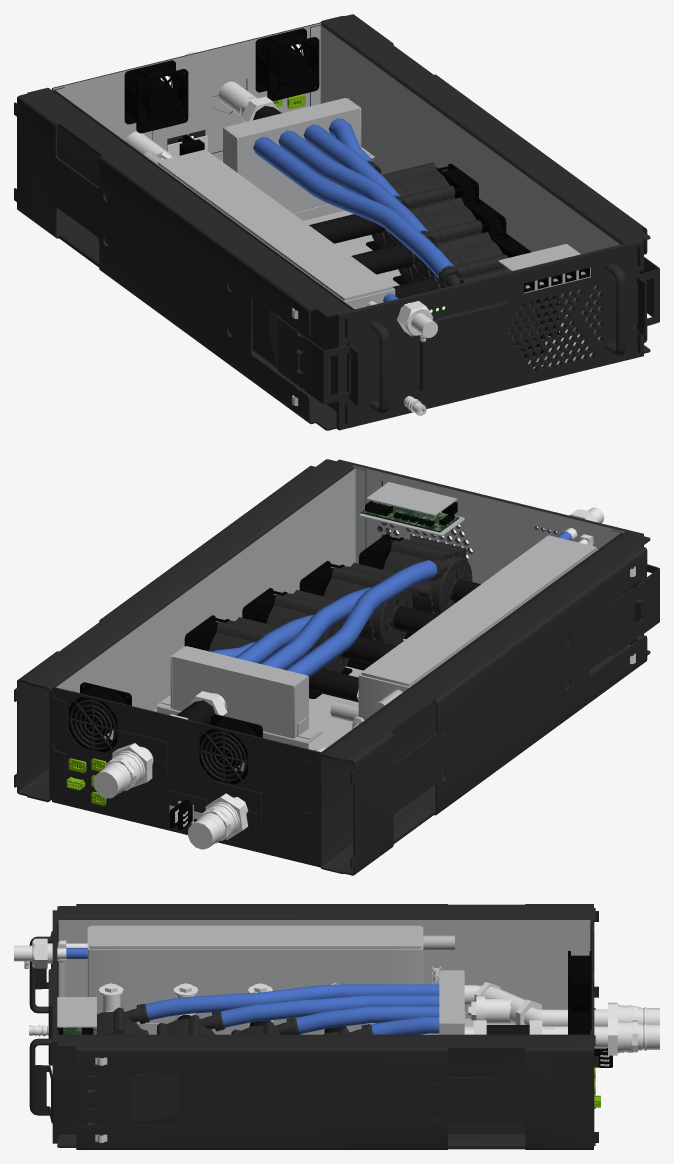
File: rpu.glb
The picture shows the model from 3 angles, top to bottom: view 1: azimuth 30°, elevation 25°; view 2: azimuth 150°, elevation 25°; view 3: azimuth 270°, elevation 25°; orthographic projection. The views are drawn at different scales.
Visible parts, largest first — view 1: RPU Body_Merged_primitive0, RPU Body_Merged_primitive6, RPU Body_Merged_primitive1, RPU Body_Merged_primitive11, RPU Body_Merged_primitive4, RPU Body_Merged_primitive5, RPU Body_Merged_primitive3, RPU Body_Merged_primitive10; view 2: RPU Body_Merged_primitive0, RPU Body_Merged_primitive6, RPU Body_Merged_primitive1, RPU Body_Merged_primitive11, RPU Body_Merged_primitive3, RPU Body_Merged_primitive10, RPU Body_Merged_primitive4, RPU Body_Merged_primitive8, RPU Body_Merged_primitive12; view 3: RPU Body_Merged_primitive0, RPU Body_Merged_primitive6, RPU Body_Merged_primitive11, RPU Body_Merged_primitive3, RPU Body_Merged_primitive1, RPU Body_Merged_primitive4, RPU Body_Merged_primitive9.
Part boxes in pixels (left/top/right/bottom): RPU Body_Merged_primitive0: left=14, top=14, right=659, bottom=430; RPU Body_Merged_primitive6: left=53, top=23, right=619, bottom=368; RPU Body_Merged_primitive1: left=124, top=28, right=589, bottom=357; RPU Body_Merged_primitive11: left=253, top=118, right=454, bottom=302; RPU Body_Merged_primitive4: left=369, top=200, right=626, bottom=413; RPU Body_Merged_primitive5: left=427, top=308, right=502, bottom=386; RPU Body_Merged_primitive3: left=125, top=52, right=585, bottom=415; RPU Body_Merged_primitive10: left=309, top=214, right=438, bottom=298; RPU Body_Merged_primitive0: left=14, top=459, right=659, bottom=875; RPU Body_Merged_primitive6: left=56, top=465, right=640, bottom=823; RPU Body_Merged_primitive1: left=69, top=501, right=457, bottom=829; RPU Body_Merged_primitive11: left=210, top=531, right=572, bottom=677; RPU Body_Merged_primitive3: left=93, top=507, right=635, bottom=849; RPU Body_Merged_primitive10: left=309, top=579, right=480, bottom=702; RPU Body_Merged_primitive4: left=278, top=523, right=389, bottom=626; RPU Body_Merged_primitive8: left=66, top=758, right=106, bottom=805; RPU Body_Merged_primitive12: left=361, top=502, right=458, bottom=530; RPU Body_Merged_primitive0: left=33, top=904, right=598, bottom=1149; RPU Body_Merged_primitive6: left=57, top=920, right=590, bottom=1034; RPU Body_Merged_primitive11: left=66, top=948, right=439, bottom=1034; RPU Body_Merged_primitive3: left=14, top=938, right=659, bottom=1142; RPU Body_Merged_primitive1: left=57, top=951, right=612, bottom=1067; RPU Body_Merged_primitive4: left=29, top=936, right=277, bottom=1115; RPU Body_Merged_primitive9: left=486, top=1025, right=529, bottom=1034.
Size of the model in its own units: 0.5503 by 0.1741 by 1.
14 materials, 1 textured.
